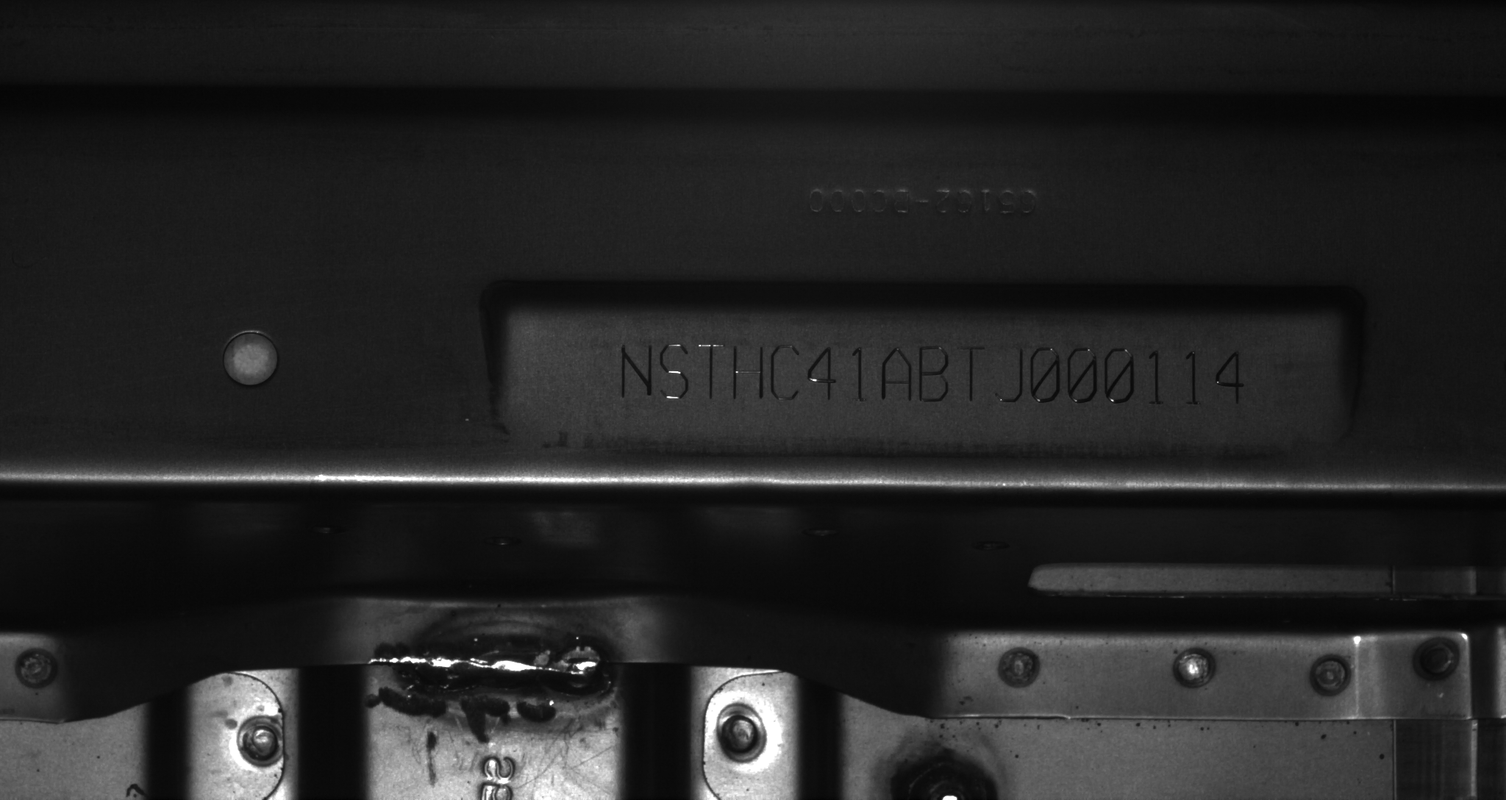bl7m_vin_plate: (496, 303, 1355, 447)
